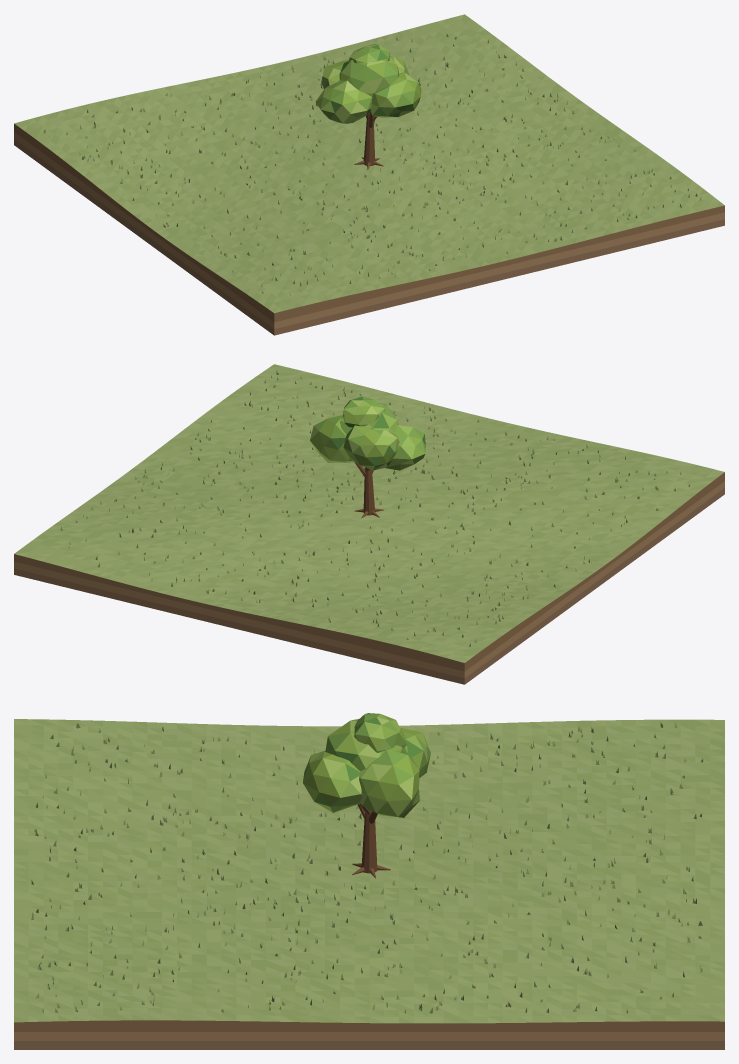
File: fazenda-fase0.glb
The picture shows the model from 3 angles, top to bottom: view 1: azimuth 30°, elevation 25°; view 2: azimuth 150°, elevation 25°; view 3: azimuth 270°, elevation 25°; orthographic projection. The views are drawn at different scales.
Parts seen in each view (by area): view 1: terreno-001, Perfil do solo, Cobertura vegetal, Copa-01, Copa-03, Copa-00, Copa-05; view 2: terreno-001, Perfil do solo, Cobertura vegetal, Copa-04, Copa-02, Copa-01, Copa-05, Copa-00; view 3: terreno-001, Perfil do solo, Cobertura vegetal, Copa-02, Copa-03, Copa-00, Copa-05, Copa-04, Tronco.
Part boxes in pixels (x1,y1,x2,y2): terreno-001: (14, 14, 724, 313); Perfil do solo: (14, 124, 724, 335); Cobertura vegetal: (43, 34, 701, 295); Copa-01: (315, 80, 372, 123); Copa-03: (370, 72, 421, 117); Copa-00: (339, 58, 398, 96); Copa-05: (349, 44, 389, 63); terreno-001: (14, 364, 724, 662); Perfil do solo: (14, 472, 724, 684); Cobertura vegetal: (60, 370, 690, 646); Copa-04: (343, 425, 399, 470); Copa-02: (310, 415, 354, 462); Copa-01: (385, 425, 425, 470); Copa-05: (343, 396, 384, 427); Copa-00: (340, 403, 398, 440); terreno-001: (14, 719, 724, 1023); Perfil do solo: (14, 1020, 724, 1049); Cobertura vegetal: (31, 722, 703, 1013); Copa-02: (359, 749, 419, 817); Copa-03: (303, 751, 362, 812); Copa-00: (325, 719, 409, 771); Copa-05: (354, 713, 406, 752); Copa-04: (400, 728, 430, 777); Tronco: (361, 810, 377, 873).
Bounding box in the file's own units: 40 × 11.48 × 40.
